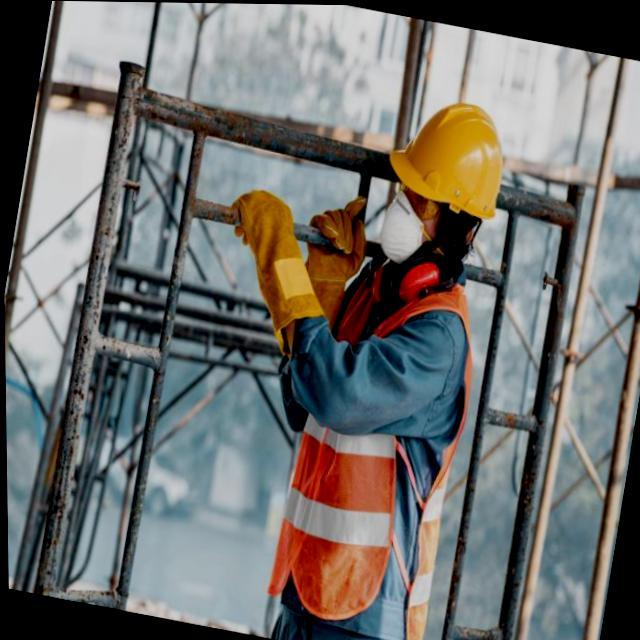goggles_on: (382, 174, 449, 224)
